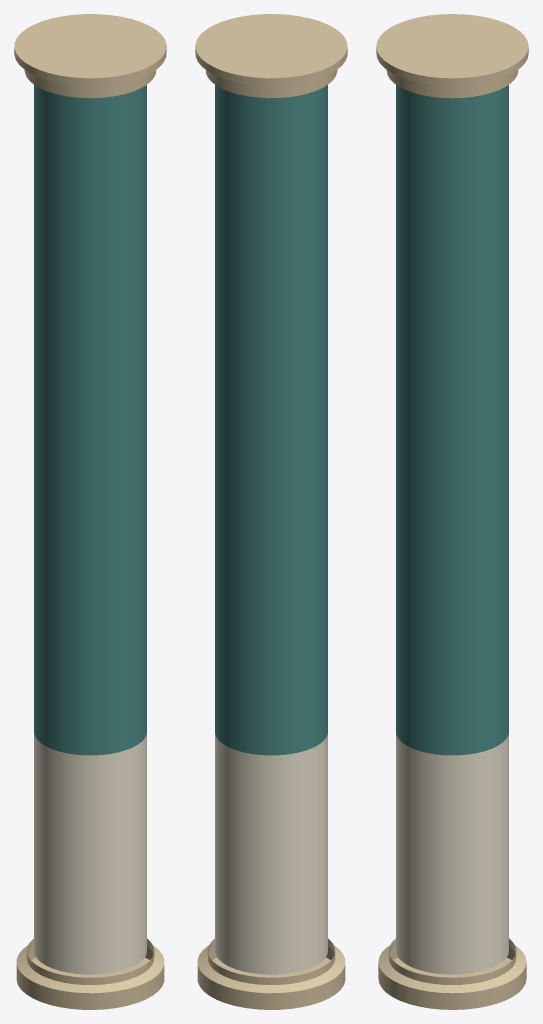
File: KC32__AD_Arc_Column_Round_10.glb
3 renders of one model, left to right at view 1: azimuth 30°, elevation 25°; view 2: azimuth 150°, elevation 25°; view 3: azimuth 270°, elevation 25°, orthographic.
Parts seen in each view (by area): view 1: KC32_CORPS__AD_Arc_Column_Round_10, KC32_LUMIERE__AD_Arc_Column_Round_10, KC32_BRONZE__AD_Arc_Column_Round_10; view 2: KC32_CORPS__AD_Arc_Column_Round_10, KC32_LUMIERE__AD_Arc_Column_Round_10, KC32_BRONZE__AD_Arc_Column_Round_10; view 3: KC32_CORPS__AD_Arc_Column_Round_10, KC32_LUMIERE__AD_Arc_Column_Round_10, KC32_BRONZE__AD_Arc_Column_Round_10.
Part boxes in pixels (bbox=[...]): KC32_CORPS__AD_Arc_Column_Round_10: bbox=[34, 85, 146, 755]; KC32_LUMIERE__AD_Arc_Column_Round_10: bbox=[34, 733, 146, 974]; KC32_BRONZE__AD_Arc_Column_Round_10: bbox=[14, 14, 166, 1009]; KC32_CORPS__AD_Arc_Column_Round_10: bbox=[215, 85, 327, 755]; KC32_LUMIERE__AD_Arc_Column_Round_10: bbox=[215, 733, 327, 974]; KC32_BRONZE__AD_Arc_Column_Round_10: bbox=[195, 14, 347, 1009]; KC32_CORPS__AD_Arc_Column_Round_10: bbox=[396, 85, 508, 755]; KC32_LUMIERE__AD_Arc_Column_Round_10: bbox=[396, 733, 508, 974]; KC32_BRONZE__AD_Arc_Column_Round_10: bbox=[376, 14, 528, 1009].
Bounding box in the file's own units: 1.48 × 10 × 1.48.
